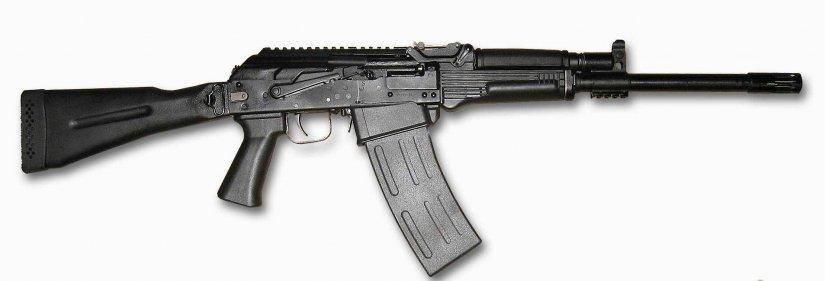larga: (19, 40, 805, 275)
